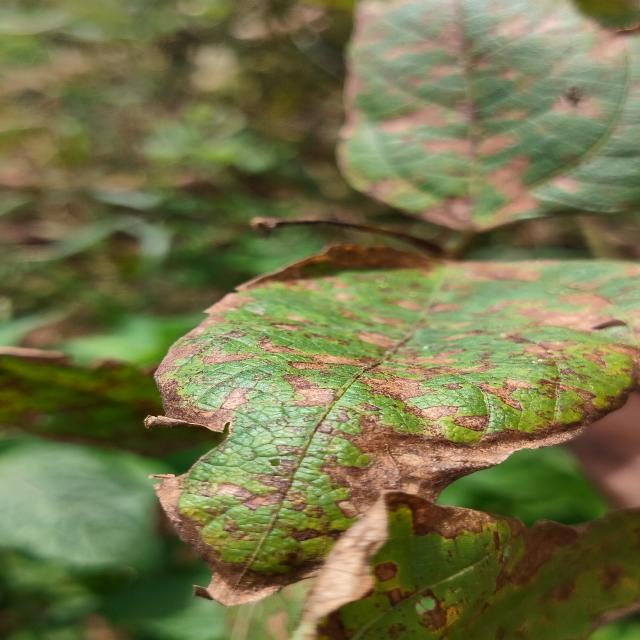Black gram_leaf spot: (134, 240, 640, 603), (344, 0, 640, 239)
